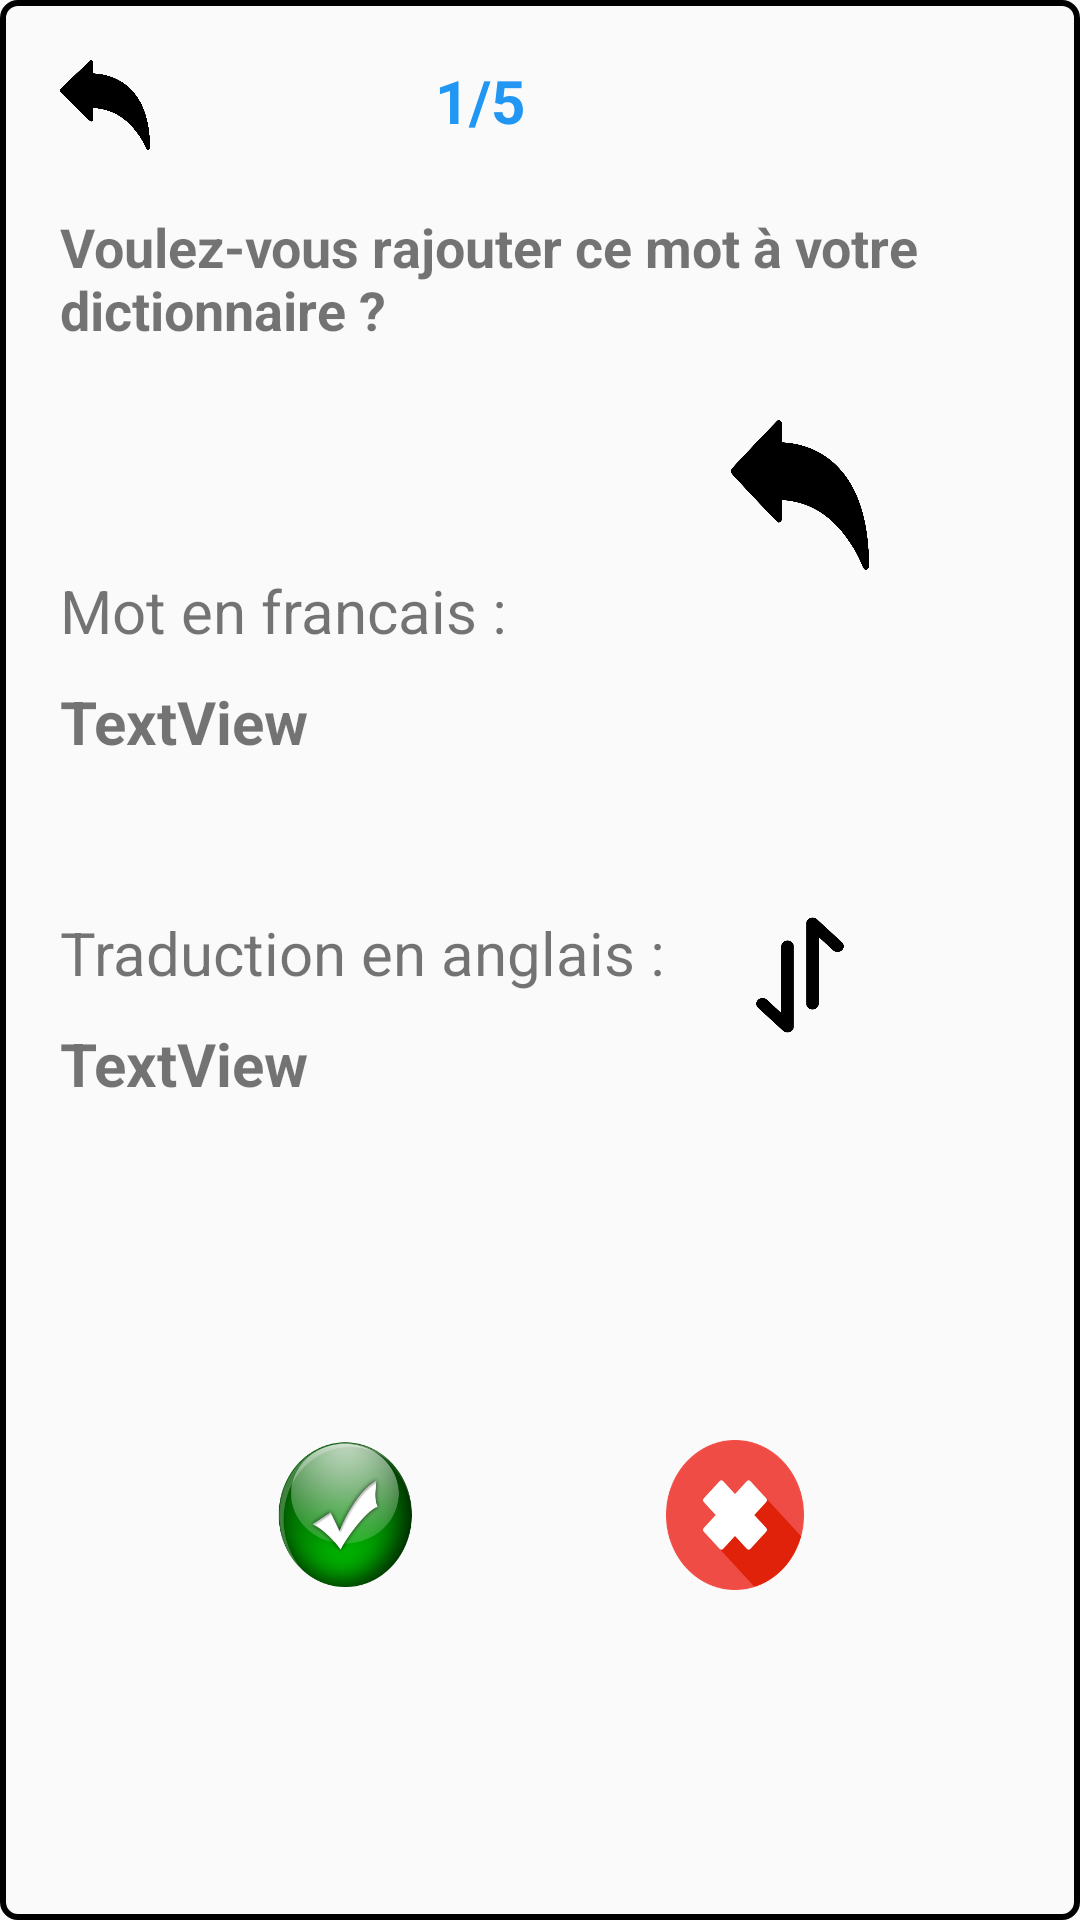

Screen size 1080w x 1920h. Icon name, then its center in pixels as point (x, y):
back arrow: point (105, 105), point (800, 495)
refuse: point (735, 1515)
validate: point (345, 1514)
